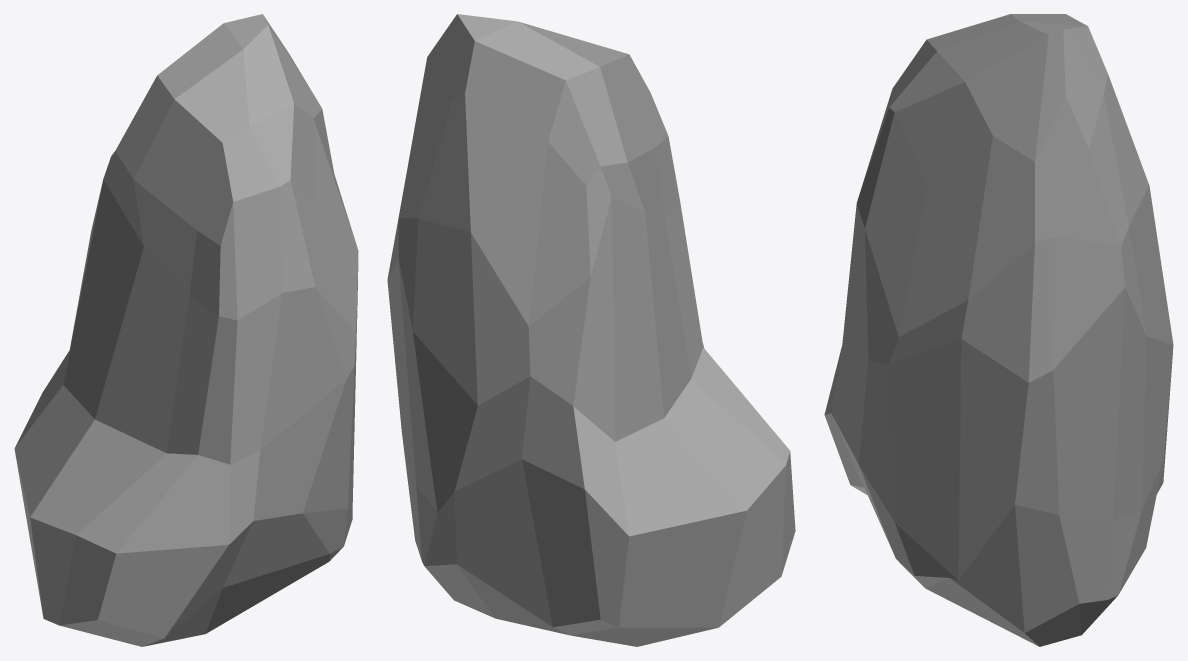
File: HardRock_07.fbx
3 views of the same model, side by side, from view 1: azimuth 30°, elevation 25°; view 2: azimuth 150°, elevation 25°; view 3: azimuth 270°, elevation 25° (orthographic). The views are drawn at different scales.
Parts seen in each view (by area): view 1: HardRock_07; view 2: HardRock_07; view 3: HardRock_07.
Part boxes in pixels (left/top/right/bottom): HardRock_07: left=14, top=14, right=358, bottom=646; HardRock_07: left=387, top=14, right=795, bottom=646; HardRock_07: left=824, top=14, right=1173, bottom=646.
Bounding box in the file's own units: 62.51 × 100 × 51.67.
